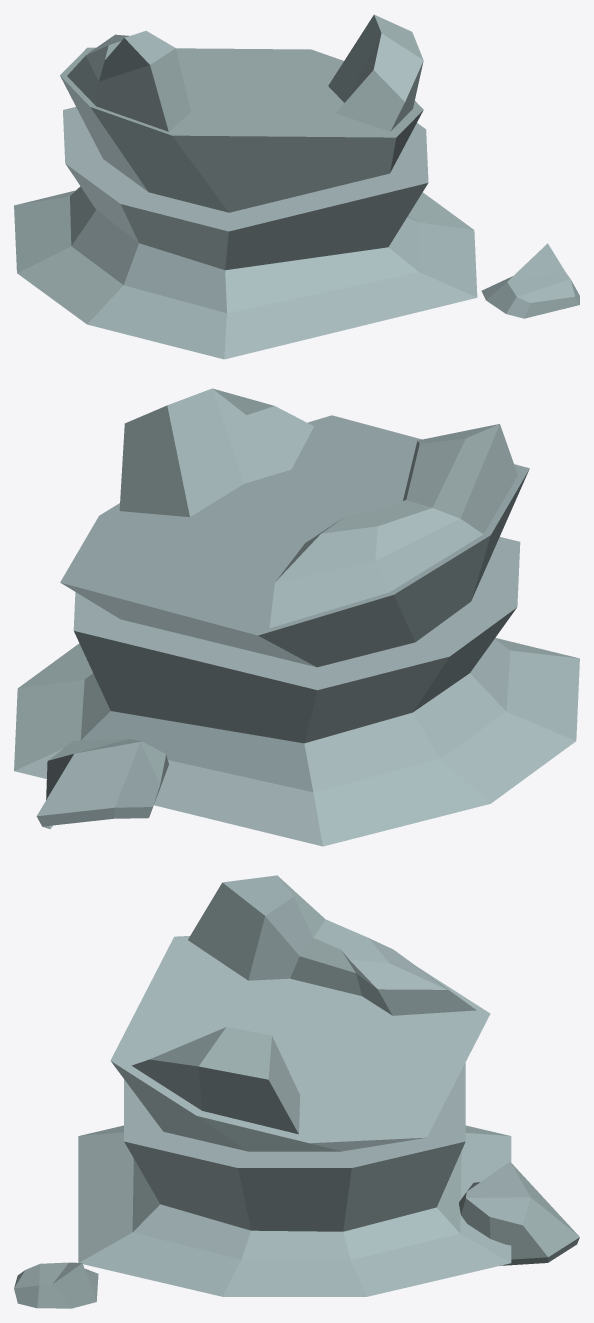
File: SmallRock2.fbx
3 views of the same model, one above another, from view 1: azimuth 30°, elevation 25°; view 2: azimuth 150°, elevation 25°; view 3: azimuth 270°, elevation 25° (orthographic). The views are drawn at different scales.
Parts seen in each view (by area): view 1: SmallRock2; view 2: SmallRock2; view 3: SmallRock2.
Part boxes in pixels (x1=…): SmallRock2: x1=14, y1=14, x2=579, y2=359; SmallRock2: x1=14, y1=388, x2=579, y2=846; SmallRock2: x1=14, y1=875, x2=579, y2=1308.
Bounding box in the file's own units: 2.21 × 1.44 × 2.61.
